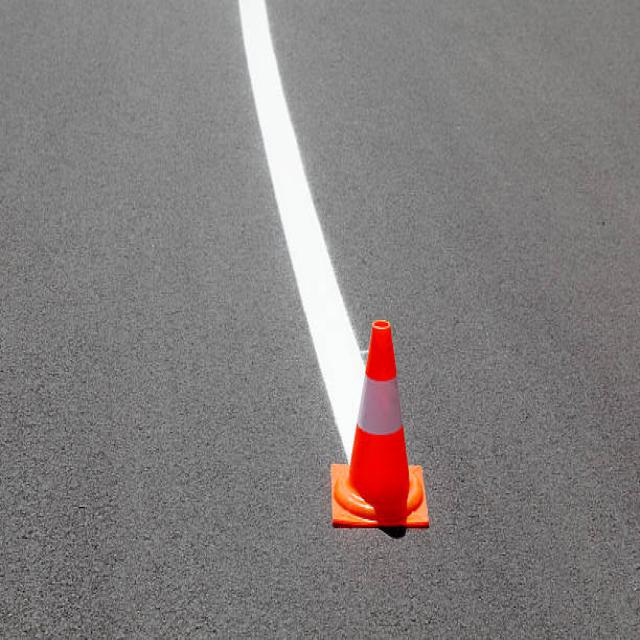Traffic Cone: (304, 276, 455, 564)
